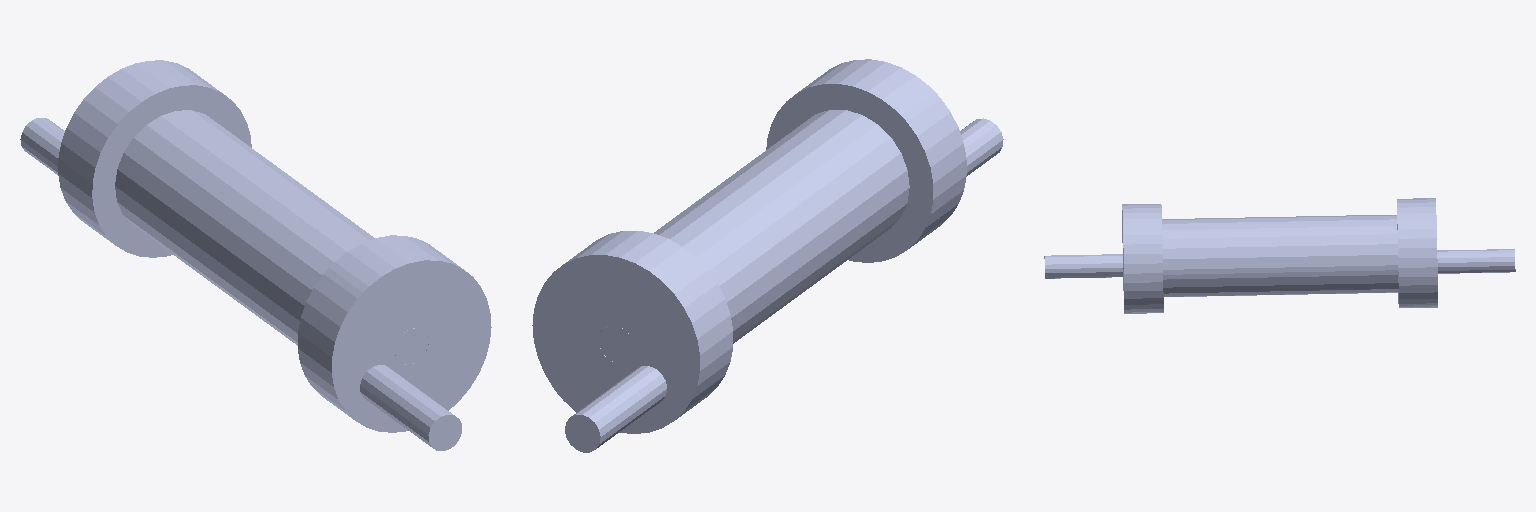
The robot description file, URDF, robot "leg":
<?xml version="1.0" encoding="utf-8"?>
<!-- This URDF was automatically created by SolidWorks to URDF Exporter! Originally created by Stephen Brawner (brawner@gmail.com) 
     Commit Version: 1.6.0-4-g7f85cfe  Build Version: 1.6.7995.38578
     For more information, please see http://wiki.ros.org/sw_urdf_exporter -->
<robot
  name="leg">
  <link
    name="base_link">
    <inertial>
      <origin
        xyz="0.409295497961091 0.0553071955970446 0.290857912309363"
        rpy="0 0 0" />
      <mass
        value="2.42688032489812" />
      <inertia
        ixx="0.0213227767342117"
        ixy="0.000295654638940345"
        ixz="4.24197031352009E-06"
        iyy="0.00296173547989002"
        iyz="-0.000263507387468114"
        izz="0.021323755483929" />
    </inertial>
    <visual>
      <origin
        xyz="0 0 0"
        rpy="0 0 0" />
      <geometry>
        <mesh
          filename="package://leg/meshes/base_link.STL" />
      </geometry>
      <material
        name="">
        <color
          rgba="0.792156862745098 0.819607843137255 0.933333333333333 1" />
      </material>
    </visual>
    <collision>
      <origin
        xyz="0 0 0"
        rpy="0 0 0" />
      <geometry>
        <mesh
          filename="package://leg/meshes/base_link.STL" />
      </geometry>
    </collision>
  </link>
  <link
    name="left">
    <inertial>
      <origin
        xyz="-0.00253300560821224 -0.00213611540748987 0.00659702500259088"
        rpy="0 0 0" />
      <mass
        value="0.805033117482385" />
      <inertia
        ixx="0.00155908570388046"
        ixy="-4.54218332776465E-05"
        ixz="0.000151548787372275"
        iyy="0.00157454511405004"
        iyz="0.000107345599194878"
        izz="0.0019811990484016" />
    </inertial>
    <visual>
      <origin
        xyz="0 0 0"
        rpy="0 0 0" />
      <geometry>
        <mesh
          filename="package://leg/meshes/left.STL" />
      </geometry>
      <material
        name="">
        <color
          rgba="0.792156862745098 0.819607843137255 0.933333333333333 1" />
      </material>
    </visual>
    <collision>
      <origin
        xyz="0 0 0"
        rpy="0 0 0" />
      <geometry>
        <mesh
          filename="package://leg/meshes/left.STL" />
      </geometry>
    </collision>
  </link>
  <joint
    name="left_joint"
    type="revolute">
    <origin
      xyz="0.41211 -0.11965 0.28835"
      rpy="1.5708 0 0" />
    <parent
      link="base_link" />
    <child
      link="left" />
    <axis
      xyz="0.016094 -0.014344 0.99977" />
    <limit
      lower="0"
      upper="0"
      effort="0"
      velocity="0" />
  </joint>
  <link
    name="right">
    <inertial>
      <origin
        xyz="-0.00253676231838368 -0.00219116478081993 -0.00657749794173643"
        rpy="0 0 0" />
      <mass
        value="0.805033117482385" />
      <inertia
        ixx="0.00155892641750976"
        ixy="-4.6656872742729E-05"
        ixz="-0.000127754053621418"
        iyy="0.00157255283465207"
        iyz="-0.000131047993183773"
        izz="0.00198335061417027" />
    </inertial>
    <visual>
      <origin
        xyz="0 0 0"
        rpy="0 0 0" />
      <geometry>
        <mesh
          filename="package://leg/meshes/right.STL" />
      </geometry>
      <material
        name="">
        <color
          rgba="0.792156862745098 0.819607843137255 0.933333333333333 1" />
      </material>
    </visual>
    <collision>
      <origin
        xyz="0 0 0"
        rpy="0 0 0" />
      <geometry>
        <mesh
          filename="package://leg/meshes/right.STL" />
      </geometry>
    </collision>
  </link>
  <joint
    name="right_joint"
    type="revolute">
    <origin
      xyz="0.40648 0.23027 0.29337"
      rpy="1.5708 0 0" />
    <parent
      link="base_link" />
    <child
      link="right" />
    <axis
      xyz="0.016094 -0.014344 0.99977" />
    <limit
      lower="0"
      upper="0"
      effort="0"
      velocity="0" />
  </joint>
</robot>

--- Facts derived from the render (not from the file) ---
The picture shows the robot from 3 angles, left to right: view 1: azimuth 30°, elevation 25°; view 2: azimuth 150°, elevation 25°; view 3: azimuth 270°, elevation 25°; orthographic projection.
Model leg with 3 links and 2 joints (2 revolute), rooted at base_link, posed every joint at zero.
Visible links, largest first — view 1: base_link, left, right; view 2: base_link, right, left; view 3: base_link, left, right.
Link boxes in pixels (x1=…): base_link: x1=115, y1=110, x2=428, y2=364; left: x1=298, y1=235, x2=491, y2=450; right: x1=20, y1=60, x2=251, y2=257; base_link: x1=599, y1=110, x2=909, y2=362; right: x1=532, y1=231, x2=732, y2=452; left: x1=766, y1=59, x2=1003, y2=262; base_link: x1=1123, y1=215, x2=1398, y2=296; left: x1=1044, y1=204, x2=1163, y2=313; right: x1=1397, y1=198, x2=1515, y2=307.
Size in the robot's own frame: 0.1462 by 0.6006 by 0.1456 metres.
Meshes: 3 distinct files referenced, 3 mesh visuals loaded (3 binary STL).
